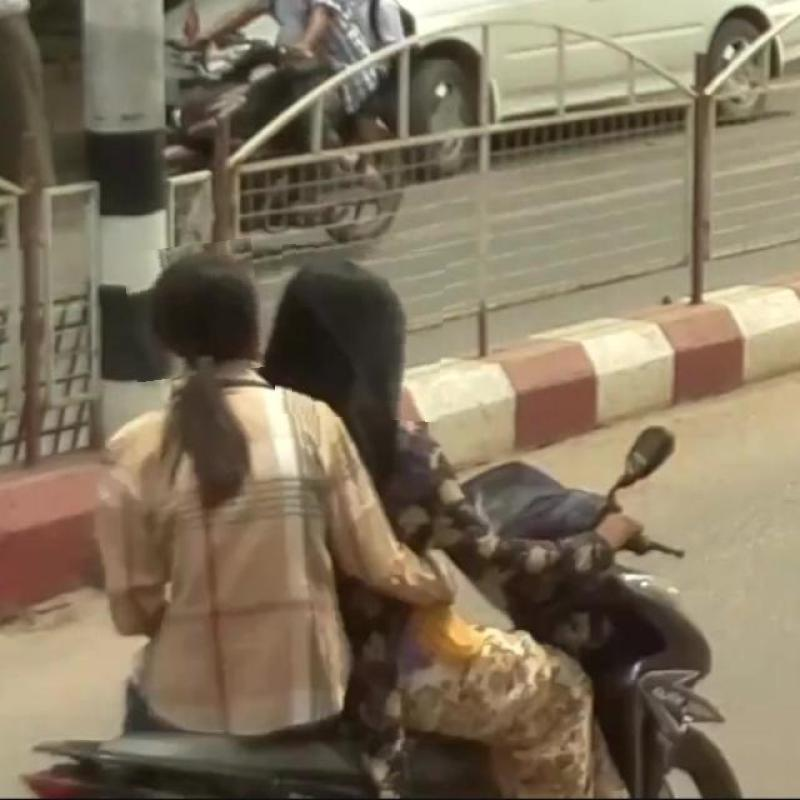nohelmet: (276, 246, 444, 420), (126, 242, 263, 378)
